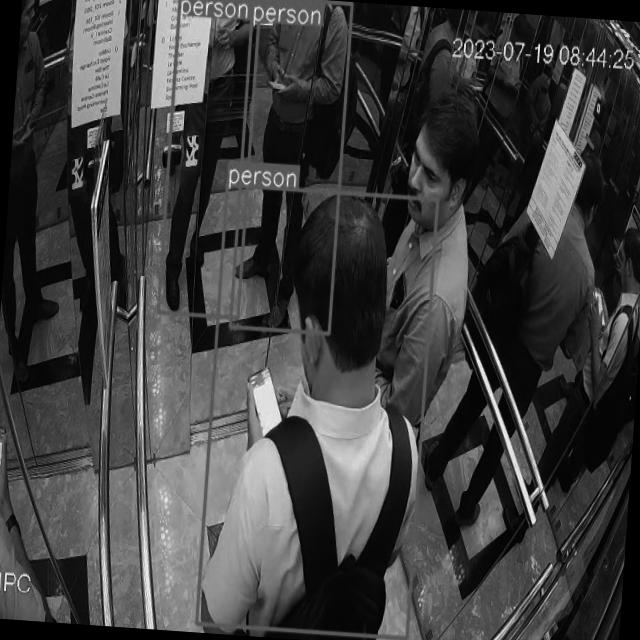person: (196, 183, 440, 638), (437, 146, 601, 544), (369, 84, 486, 421), (234, 0, 351, 331), (158, 0, 256, 316)
